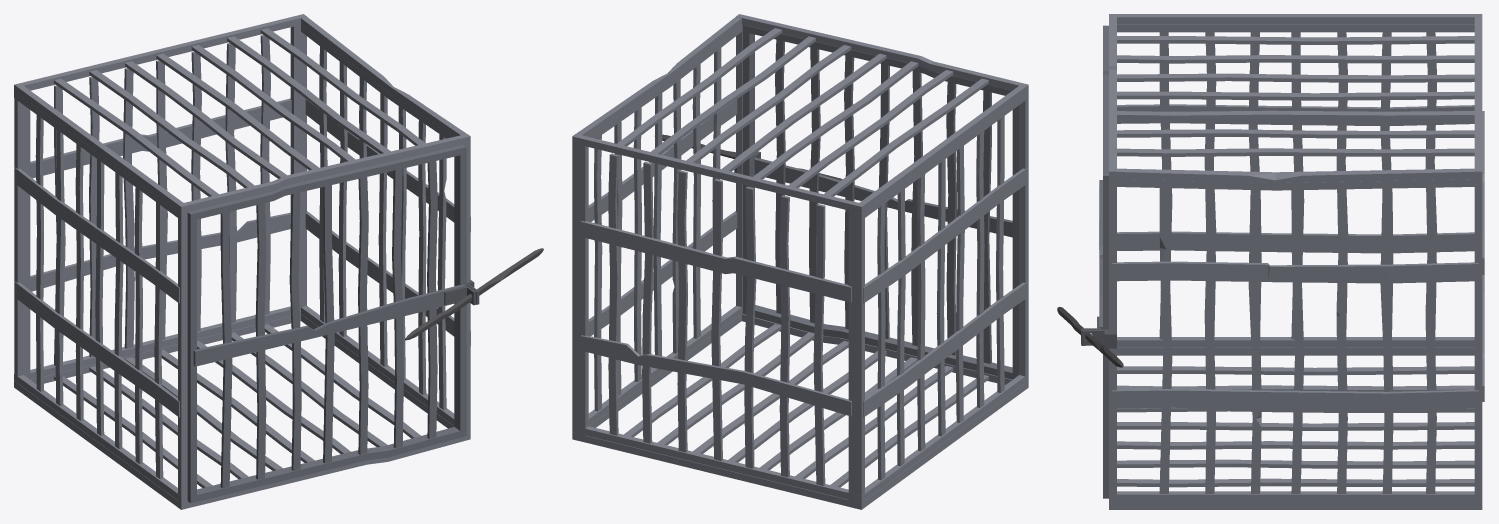
File: WF_LP_HT_Props_Cage.fbx
3 views of the same model, side by side, from view 1: azimuth 30°, elevation 25°; view 2: azimuth 150°, elevation 25°; view 3: azimuth 270°, elevation 25° (orthographic). The views are drawn at different scales.
Parts seen in each view (by area): view 1: WF_LP_HT_Props_Cage, WF_LP_HT_Props_CageDoor, WF_LP_HT_Props_CageLock; view 2: WF_LP_HT_Props_Cage, WF_LP_HT_Props_CageDoor; view 3: WF_LP_HT_Props_Cage, WF_LP_HT_Props_CageDoor, WF_LP_HT_Props_CageLock.
Part boxes in pixels (bbox=[...]): WF_LP_HT_Props_Cage: bbox=[14, 14, 479, 509]; WF_LP_HT_Props_CageDoor: bbox=[187, 145, 476, 503]; WF_LP_HT_Props_CageLock: bbox=[405, 248, 543, 340]; WF_LP_HT_Props_Cage: bbox=[572, 14, 1028, 509]; WF_LP_HT_Props_CageDoor: bbox=[743, 25, 1018, 379]; WF_LP_HT_Props_Cage: bbox=[1081, 14, 1484, 509]; WF_LP_HT_Props_CageDoor: bbox=[1081, 25, 1108, 498]; WF_LP_HT_Props_CageLock: bbox=[1057, 307, 1123, 367].
Bounding box in the file's own units: 1.78 × 1.42 × 1.6.
